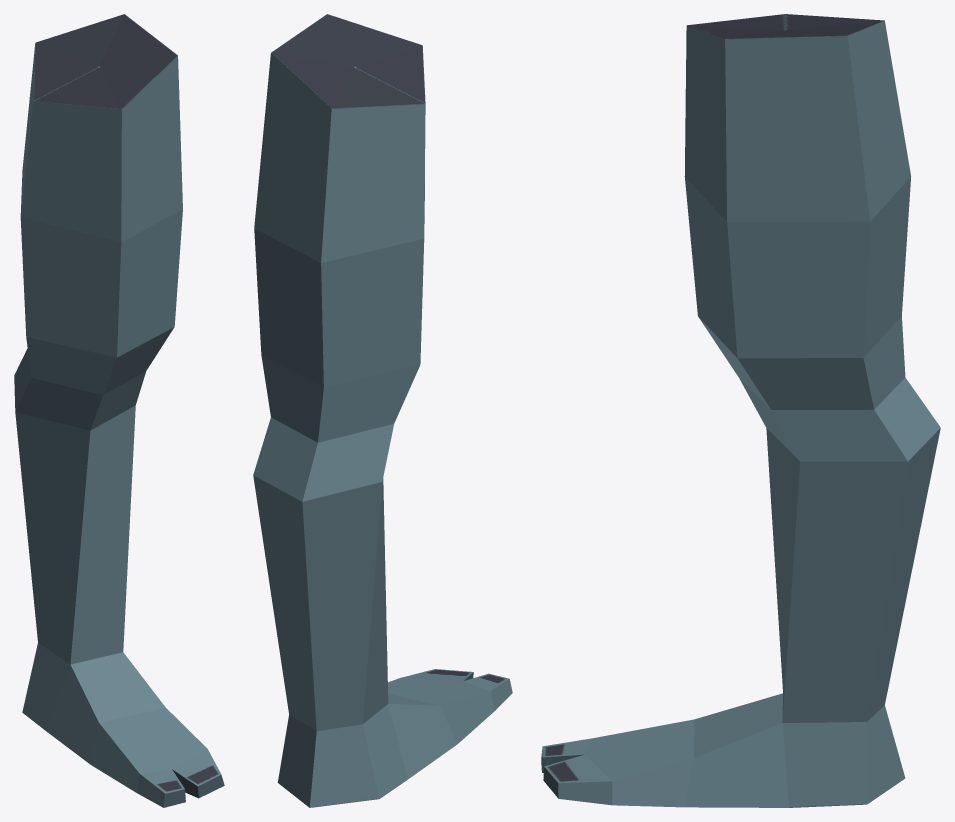
File: New_HumanLeg.fbx
The picture shows the model from 3 angles, left to right: view 1: azimuth 30°, elevation 25°; view 2: azimuth 150°, elevation 25°; view 3: azimuth 270°, elevation 25°; orthographic projection. The views are drawn at different scales.
Visible parts, largest first — view 1: pCylinder1; view 2: pCylinder1; view 3: pCylinder1.
Part boxes in pixels (bbox=[...]): pCylinder1: bbox=[14, 14, 224, 807]; pCylinder1: bbox=[253, 14, 512, 807]; pCylinder1: bbox=[541, 14, 940, 807].
Size of the model in its own units: 1.03 by 5.08 by 2.37.
